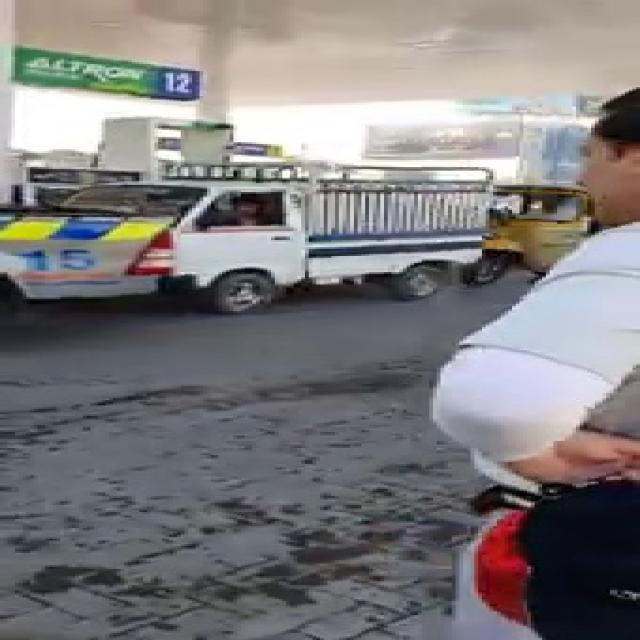police: (0, 202, 168, 313)
